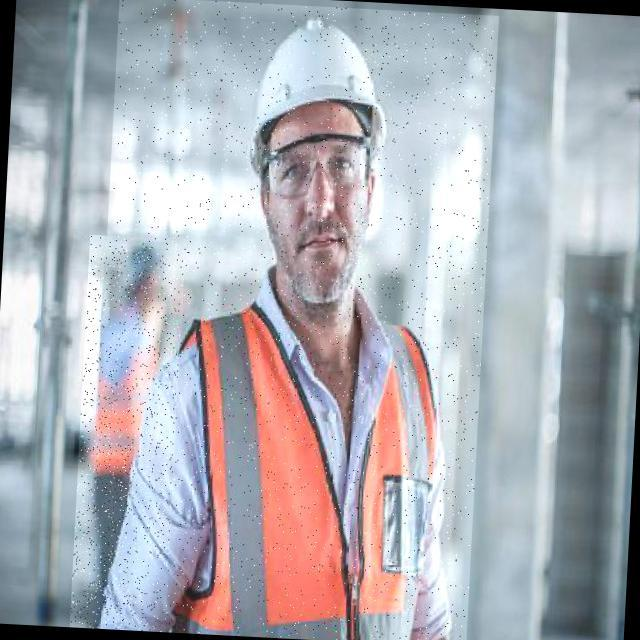Helmet: (246, 13, 395, 187)
Person: (58, 0, 501, 640)
Safety Vest: (165, 297, 443, 640), (88, 319, 163, 482)
